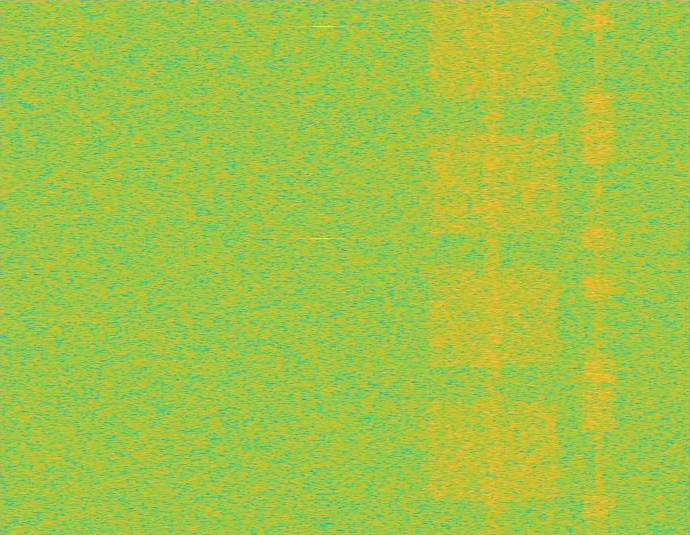5G: (424, 0, 562, 534)
DSSS: (484, 0, 503, 534), (594, 0, 602, 534)
LTE: (581, 0, 615, 534)
Radar: (316, 0, 329, 534)
